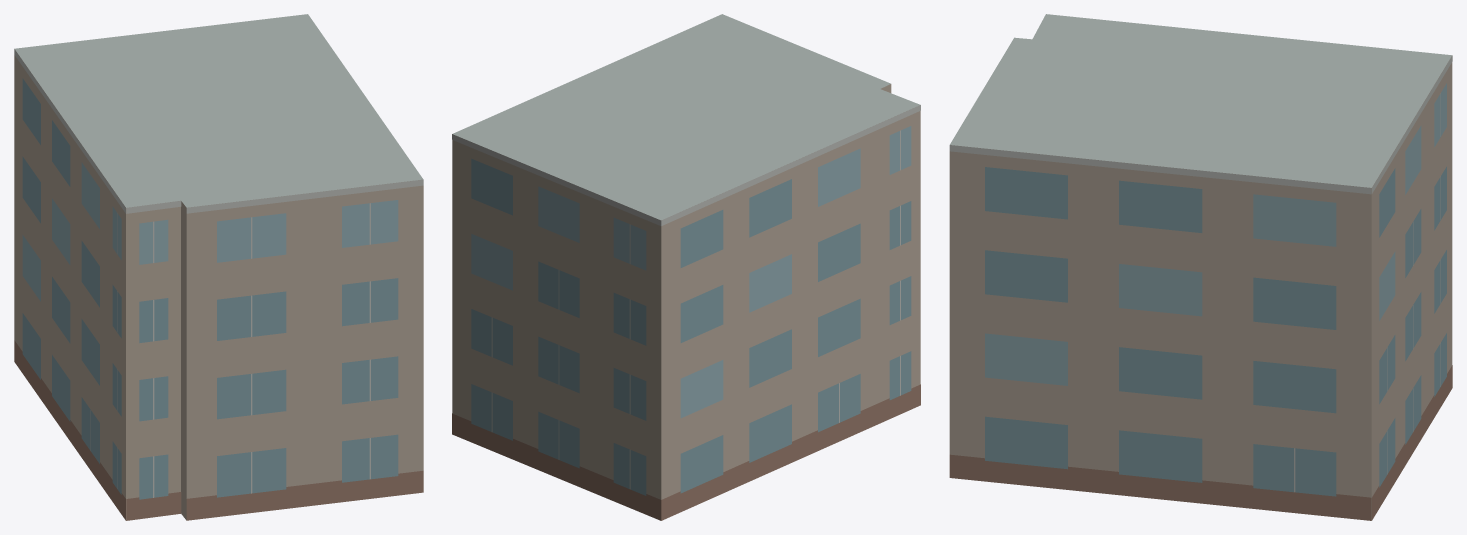
The model's file is survey-upis-32989168.glb.
The picture shows the model from 3 angles, left to right: view 1: azimuth 30°, elevation 25°; view 2: azimuth 150°, elevation 25°; view 3: azimuth 270°, elevation 25°; orthographic projection. The views are drawn at different scales.
Visible parts, largest first — view 1: survey-upis-32989168.tmp; view 2: survey-upis-32989168.tmp; view 3: survey-upis-32989168.tmp.
Part boxes in pixels (box(x1,y1,x2,y2)): survey-upis-32989168.tmp: box(14, 14, 423, 520); survey-upis-32989168.tmp: box(452, 14, 920, 520); survey-upis-32989168.tmp: box(949, 14, 1452, 520).
Bounding box in the file's own units: 14.18 × 12.65 × 17.32.
